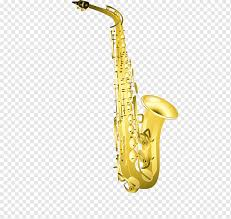Saxophone: (33, 1, 186, 195)
